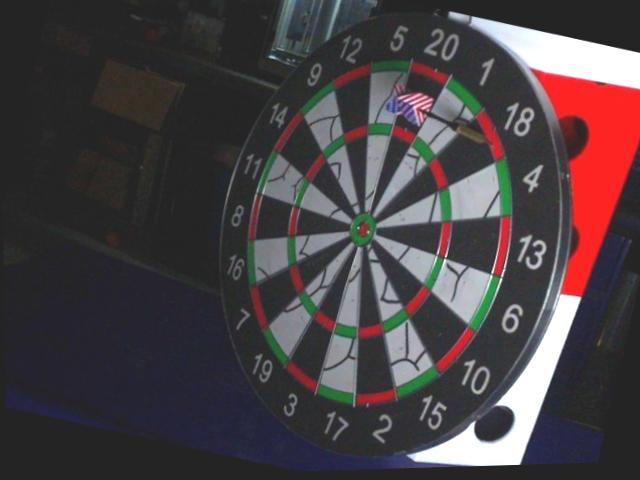double_18: (472, 115, 504, 162)
